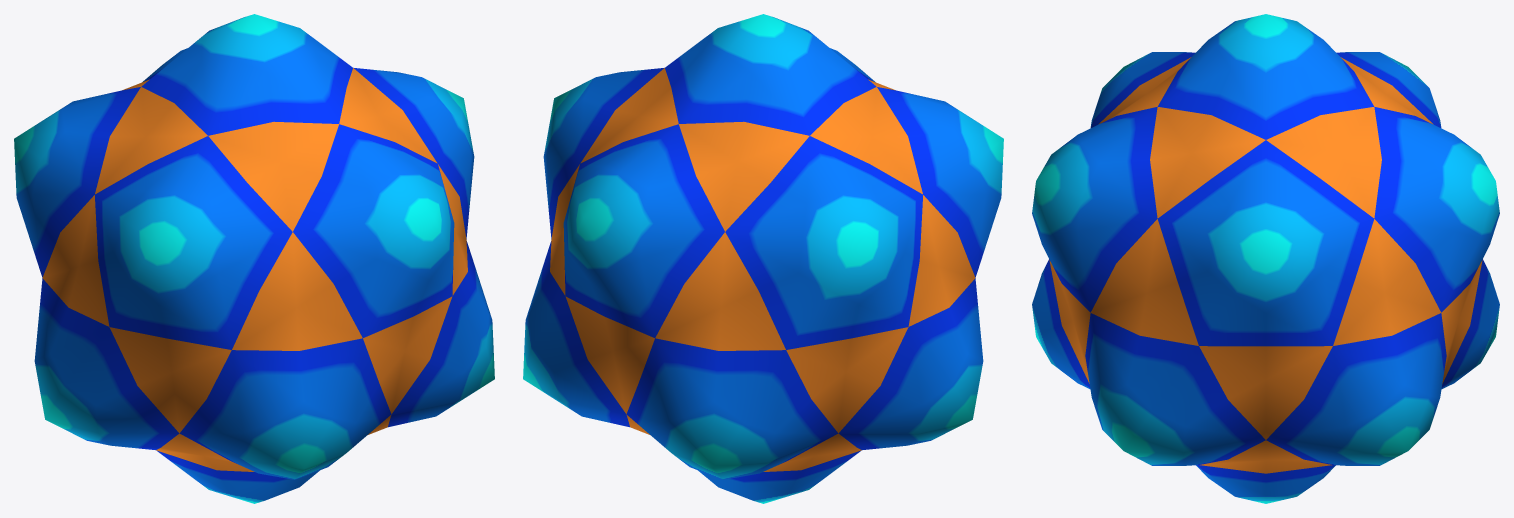
Rendered from Katamari.fbx.
3 renders of one model, left to right at view 1: azimuth 30°, elevation 25°; view 2: azimuth 150°, elevation 25°; view 3: azimuth 270°, elevation 25°, orthographic.
Parts seen in each view (by area): view 1: Icosphere; view 2: Icosphere; view 3: Icosphere.
Part boxes in pixels (x1,y1,x2,y2): Icosphere: (14, 14, 494, 503); Icosphere: (523, 14, 1003, 503); Icosphere: (1032, 14, 1499, 503).
Bounding box in the file's own units: 222 × 248 × 215.
